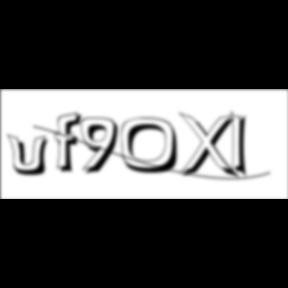9: (80, 117, 126, 177)
O: (120, 117, 186, 176)
X: (178, 112, 242, 182)
f: (55, 111, 88, 175)
l: (232, 108, 254, 182)
u: (7, 132, 55, 178)
